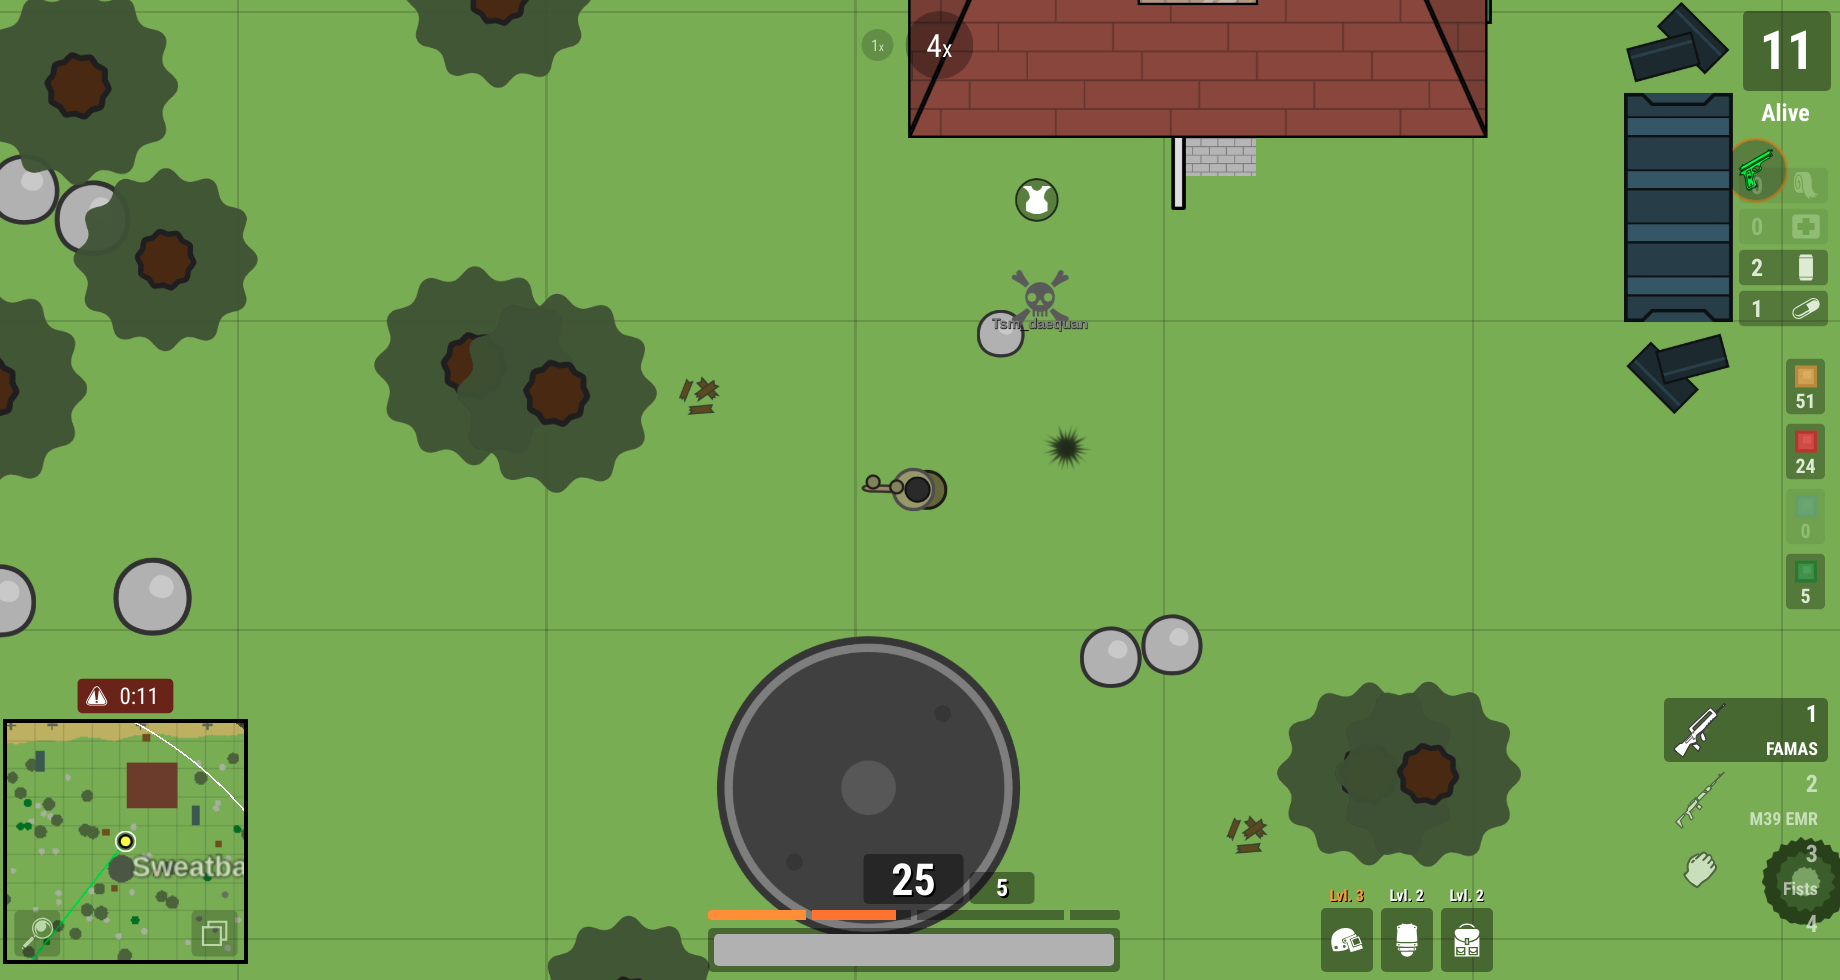Player: (851, 444, 963, 516)
